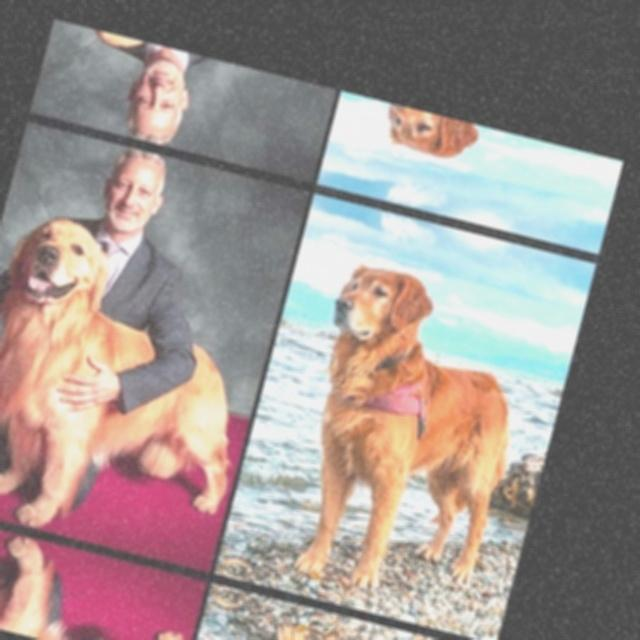dog: (254, 244, 571, 622), (0, 215, 266, 530), (363, 100, 609, 208), (0, 550, 178, 640), (222, 611, 475, 640)
person: (63, 134, 218, 318), (103, 38, 244, 164)
